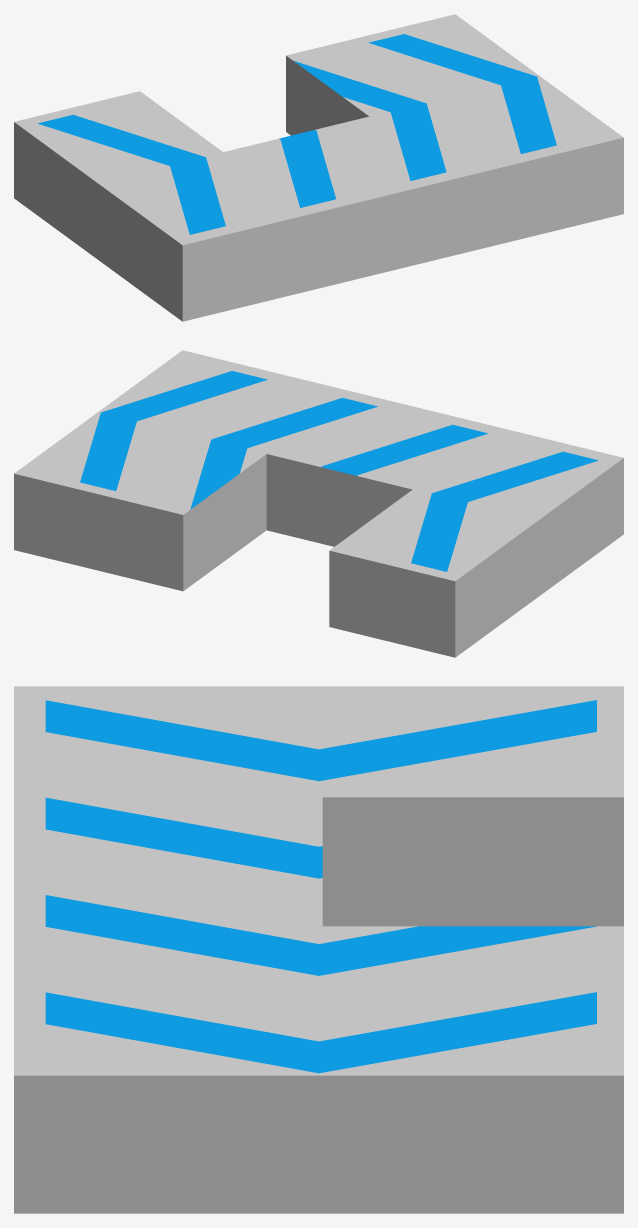
The model's file is platformgapleft.fbx.
3 renders of one model, top to bottom at view 1: azimuth 30°, elevation 25°; view 2: azimuth 150°, elevation 25°; view 3: azimuth 270°, elevation 25°, orthographic. The views are drawn at different scales.
Parts seen in each view (by area): view 1: bridge hole left; view 2: bridge hole left; view 3: bridge hole left.
Boxes of the visible parts, x1,y1,x2,y2 form: bridge hole left: (14, 14, 623, 321); bridge hole left: (14, 350, 623, 657); bridge hole left: (14, 686, 623, 1213).
Size of the model in its own units: 604 by 100 by 400.
